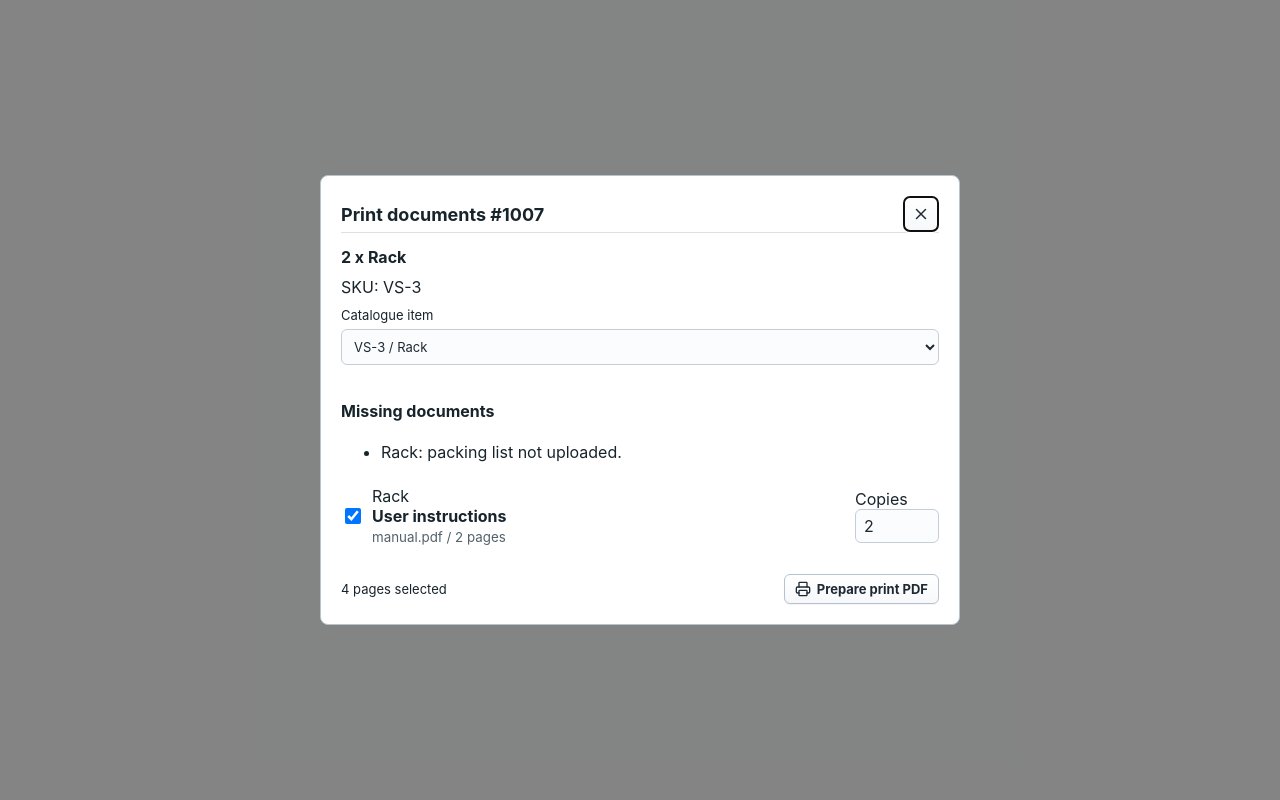
Test: matches SKU, defaults to current quantities and shows missing documents
Check: the list item "Rack: packing list not uploaded." is shown, box x1=381 y1=442 x2=622 y2=462
Check: the number field named "Copies of manual.pdf for Rack" holds "2", box x1=855 y1=509 x2=939 y2=543
Click the button "Prepare print PDF".
click(861, 589)  # box x1=784 y1=574 x2=939 y2=604
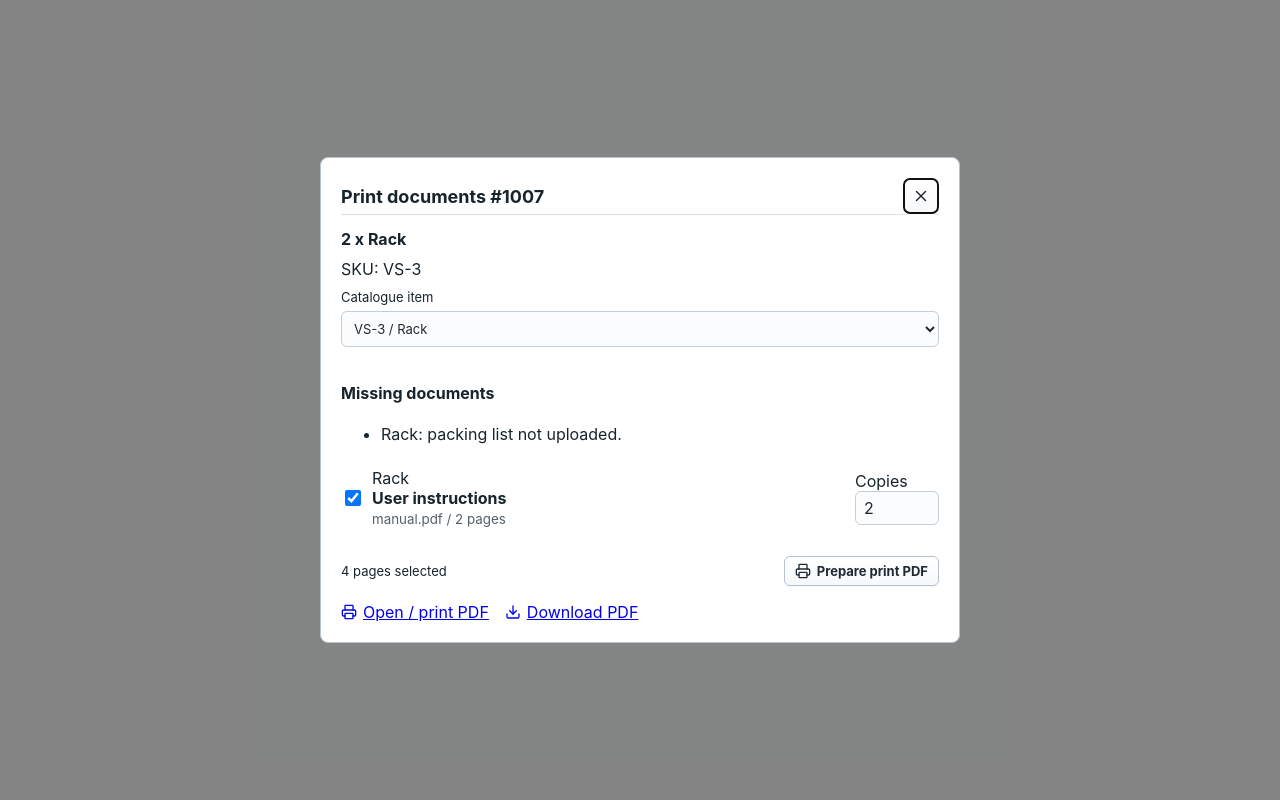
Replace the text in the number field named "Copies of manual.pdf for Rack" with "1" at (897, 508), box x1=855 y1=491 x2=939 y2=525
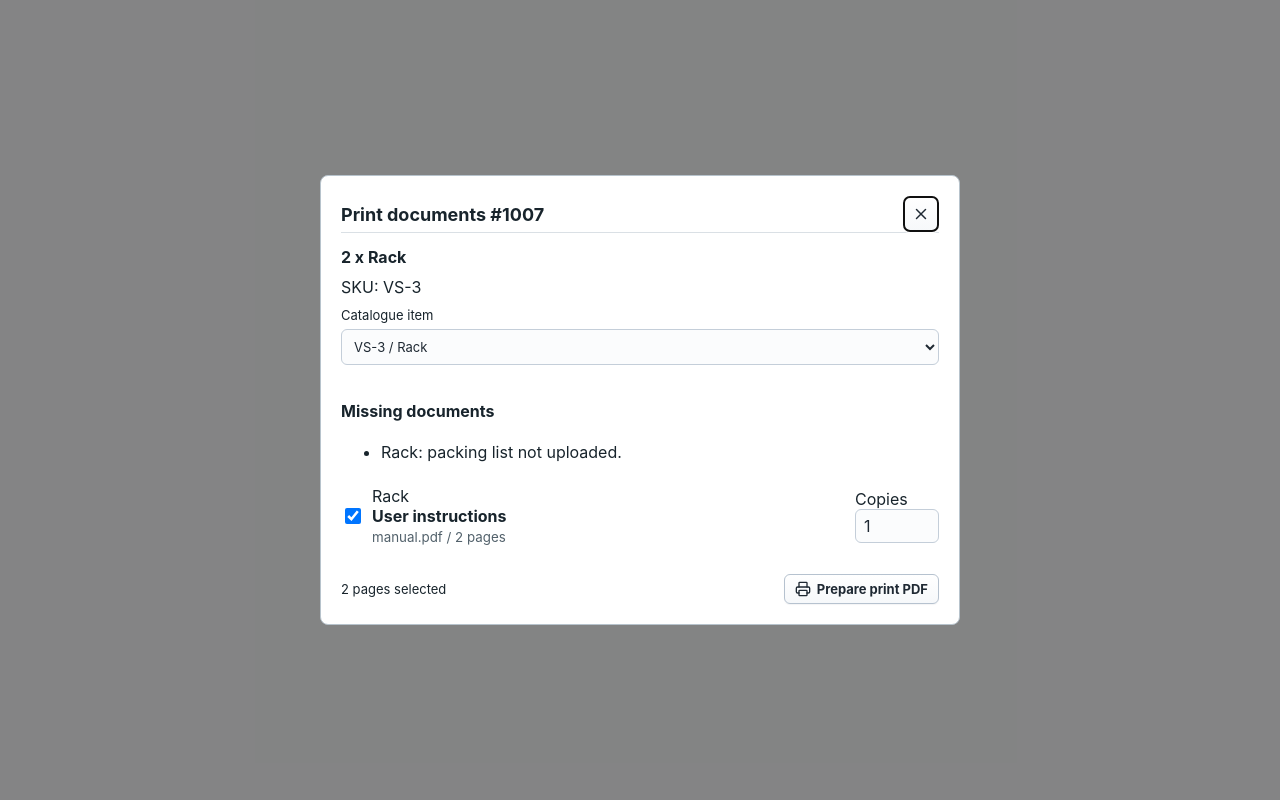
Check: the link "Open / print PDF" is gone
